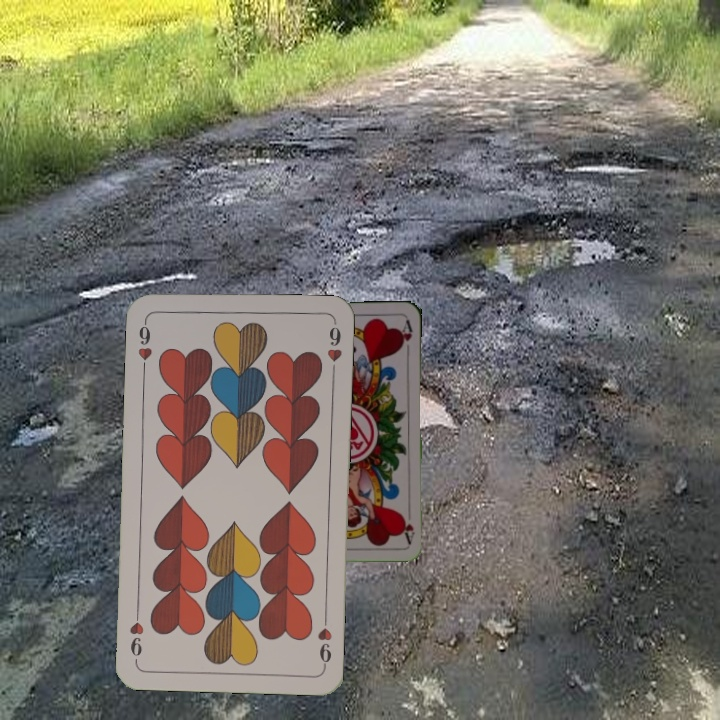H9: (134, 315, 155, 374), (314, 610, 334, 669)
HA: (398, 505, 417, 545)
